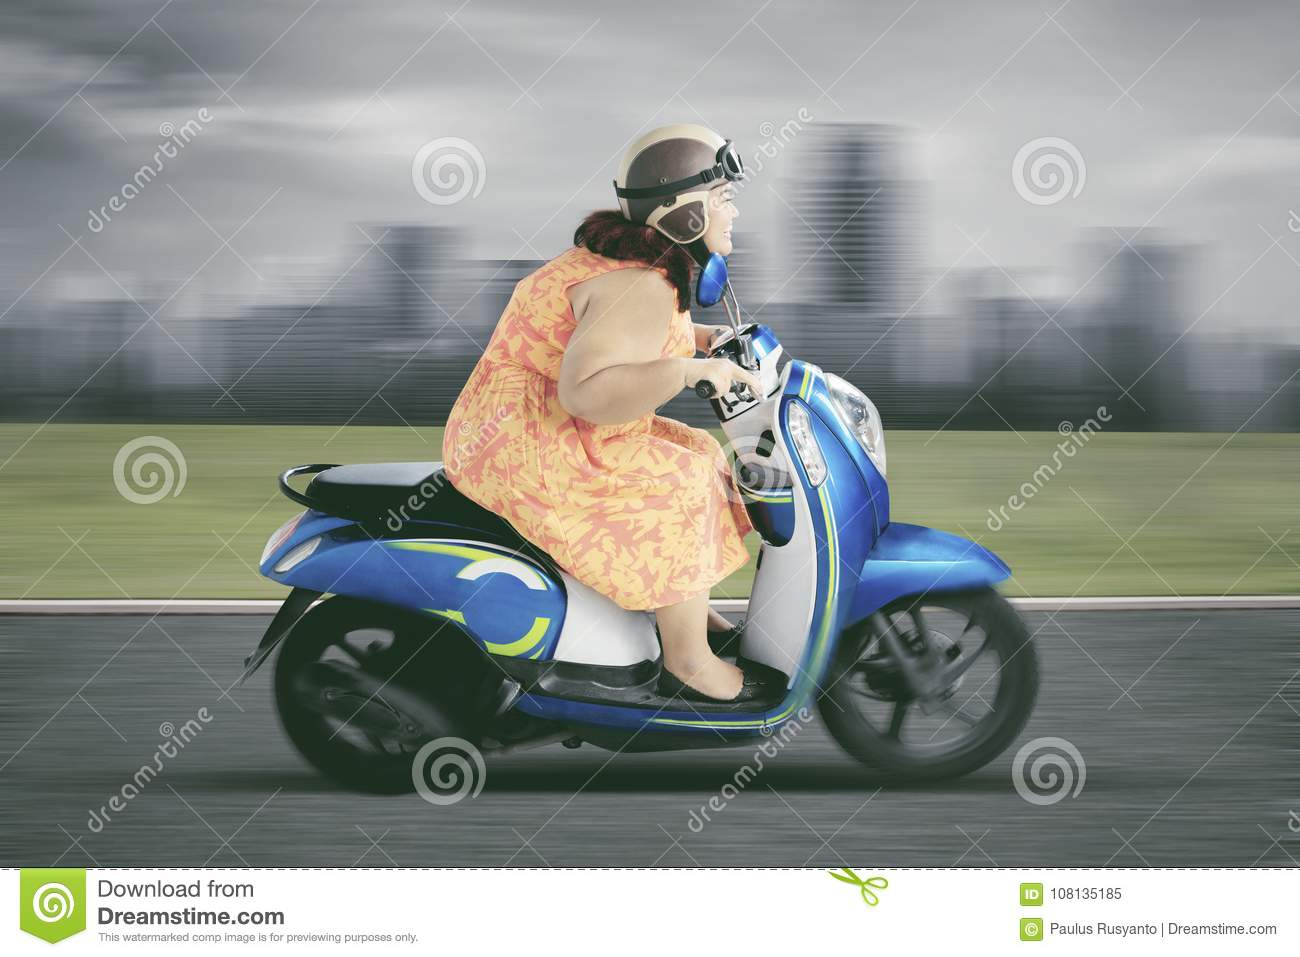helmet: (603, 129, 743, 242)
